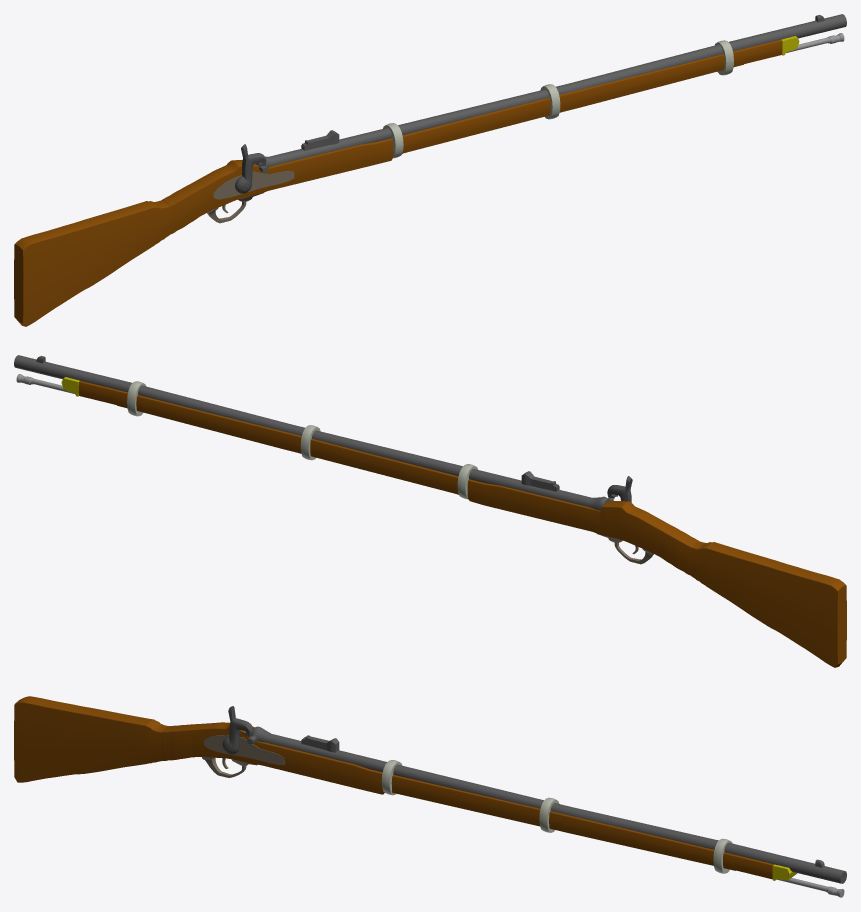
The model's file is patternrifleexport.fbx.
3 renders of one model, top to bottom at view 1: azimuth 30°, elevation 25°; view 2: azimuth 150°, elevation 25°; view 3: azimuth 330°, elevation 25°, orthographic.
Visible parts, largest first — view 1: pCube12; view 2: pCube12; view 3: pCube12.
Part boxes in pixels (x1,y1,x2,y2): pCube12: (14, 14, 846, 326); pCube12: (14, 355, 846, 667); pCube12: (14, 696, 846, 897).
Bounding box in the file's own units: 73.76 × 11.38 × 2.54.
